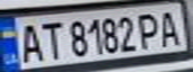1: (84, 16, 106, 55)
2: (115, 12, 139, 52)
8: (66, 16, 87, 56), (100, 14, 121, 53)
A: (12, 20, 45, 63), (154, 7, 184, 47)
P: (136, 10, 163, 51)
T: (36, 19, 66, 61)
